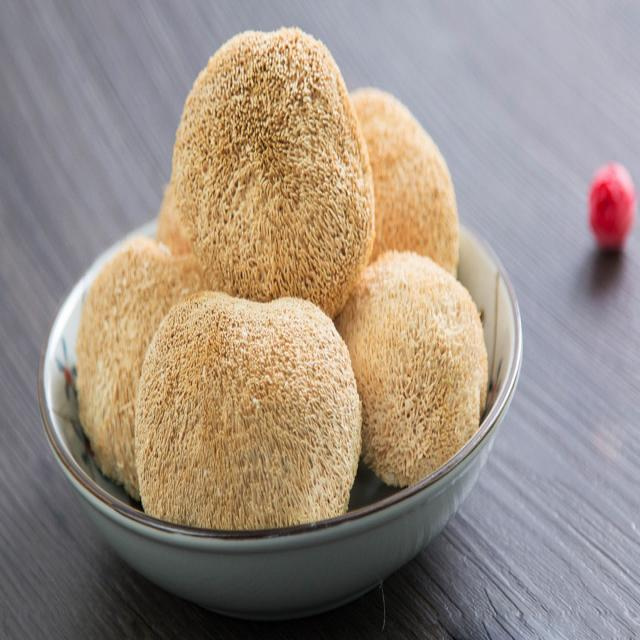Hericium erinaceus: (173, 27, 372, 321), (135, 294, 360, 532), (341, 246, 490, 485), (78, 243, 168, 496), (345, 89, 460, 276)
